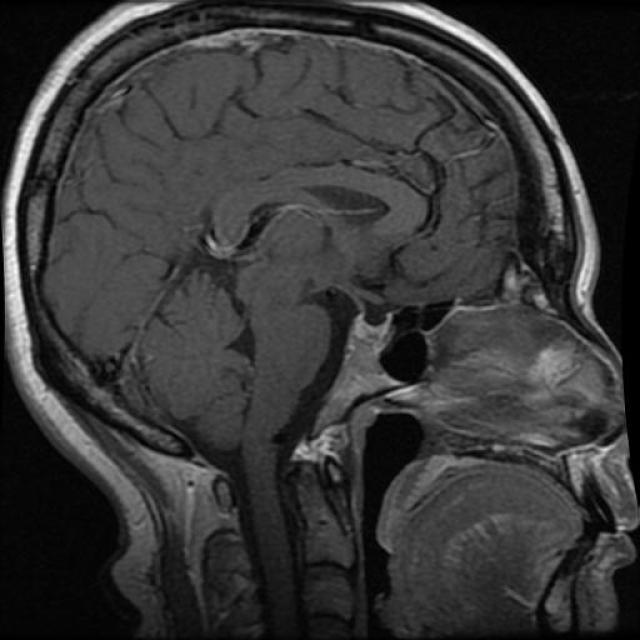pituitary: (281, 292, 405, 466)
